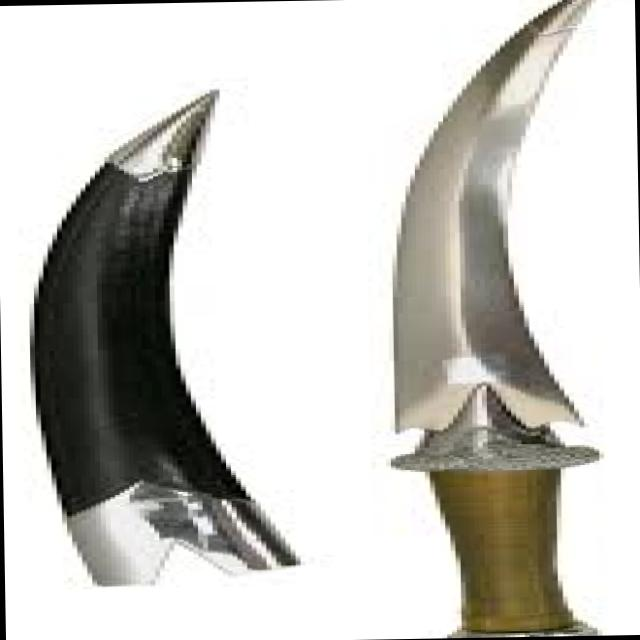Gun: (270, 0, 640, 640)
